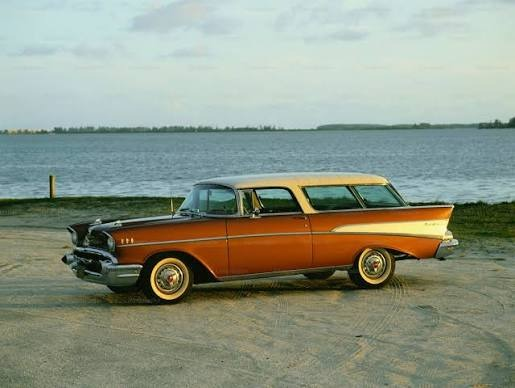car: (76, 175, 438, 305)
